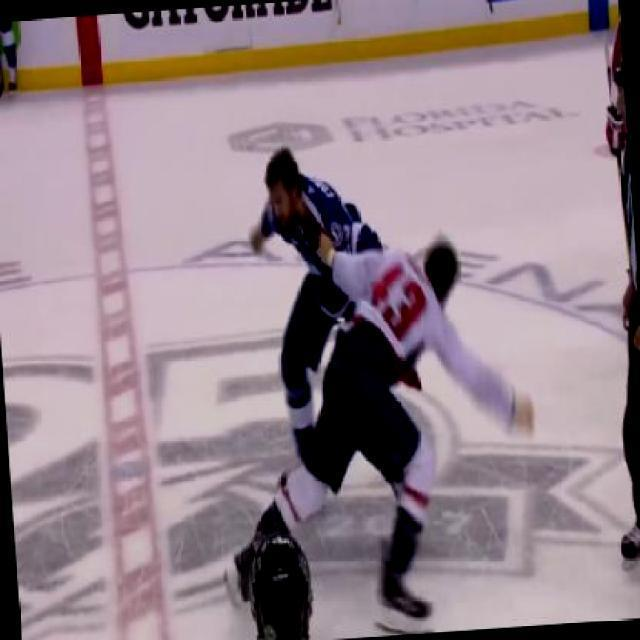fight: (240, 131, 538, 567)
